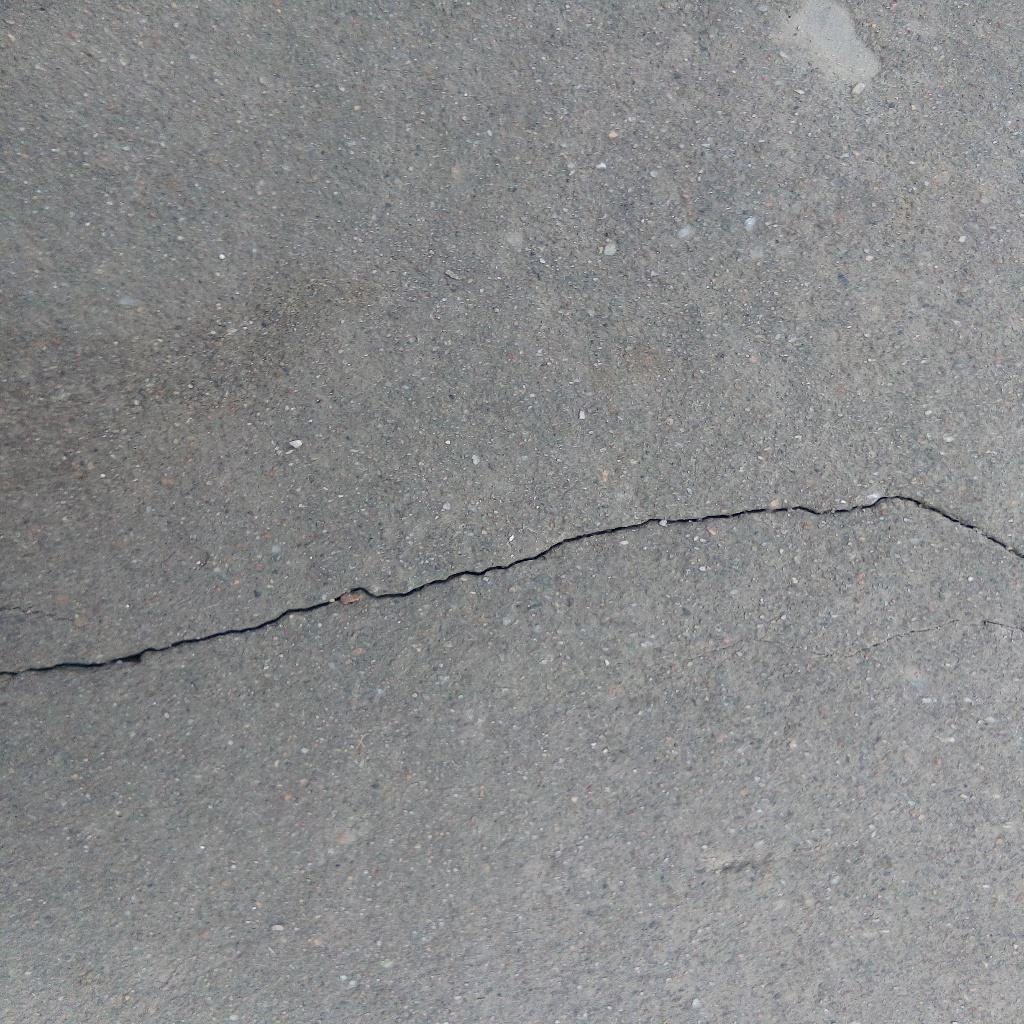Crack: (1, 493, 1024, 679)
